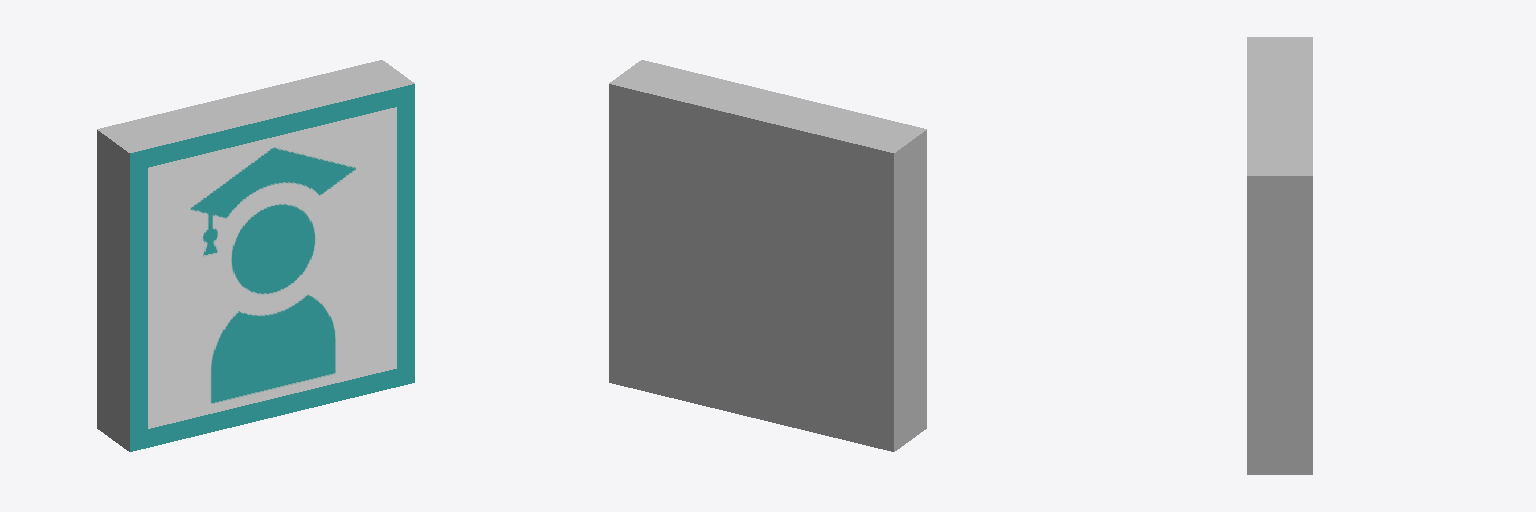
The picture shows the model from 3 angles: view 1: azimuth 30°, elevation 25°; view 2: azimuth 150°, elevation 25°; view 3: azimuth 270°, elevation 25°; orthographic projection.
Visible parts, largest first — view 1: Cube; view 2: Cube; view 3: Cube.
Boxes of the visible parts, x1=… form: Cube: x1=97, y1=60, x2=414, y2=451; Cube: x1=609, y1=60, x2=926, y2=451; Cube: x1=1247, y1=37, x2=1312, y2=474.
Size of the model in its own units: 0.5 by 0.5 by 0.1.
2 materials, 1 textured.